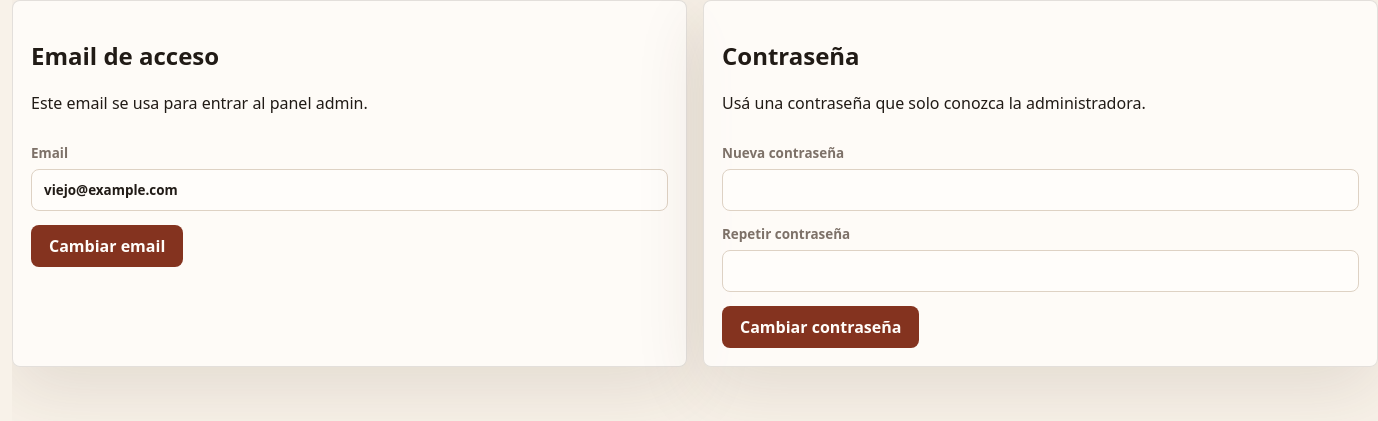
Test: AdminAccountForm › updates the admin email
Replace the text in the field labelled "Email" with "nuevo@example.com": coordinates (350, 190) [31,169,668,211]
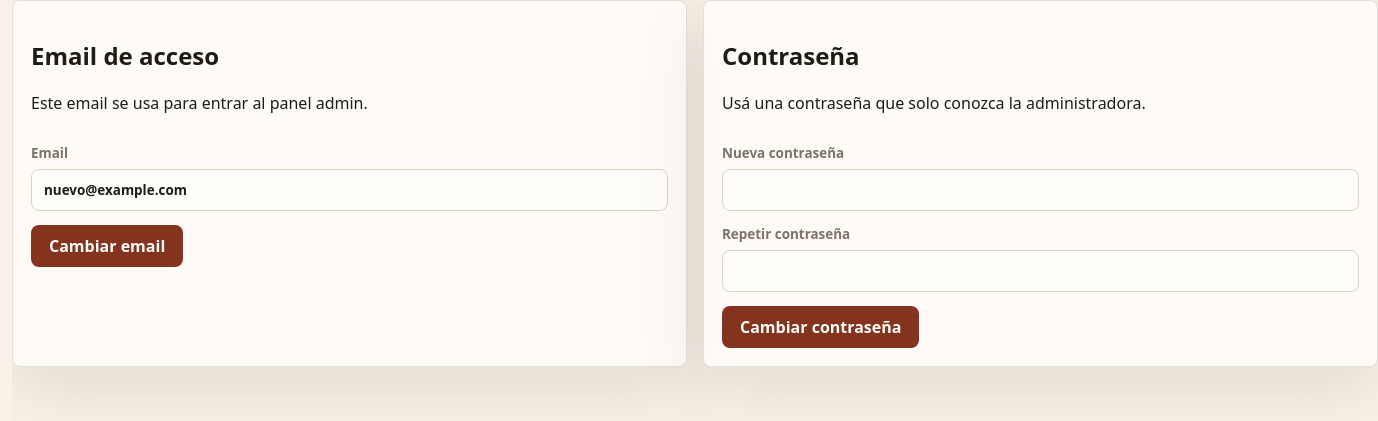
Click the button "Cambiar email": coordinates (107, 246) [31,225,183,267]
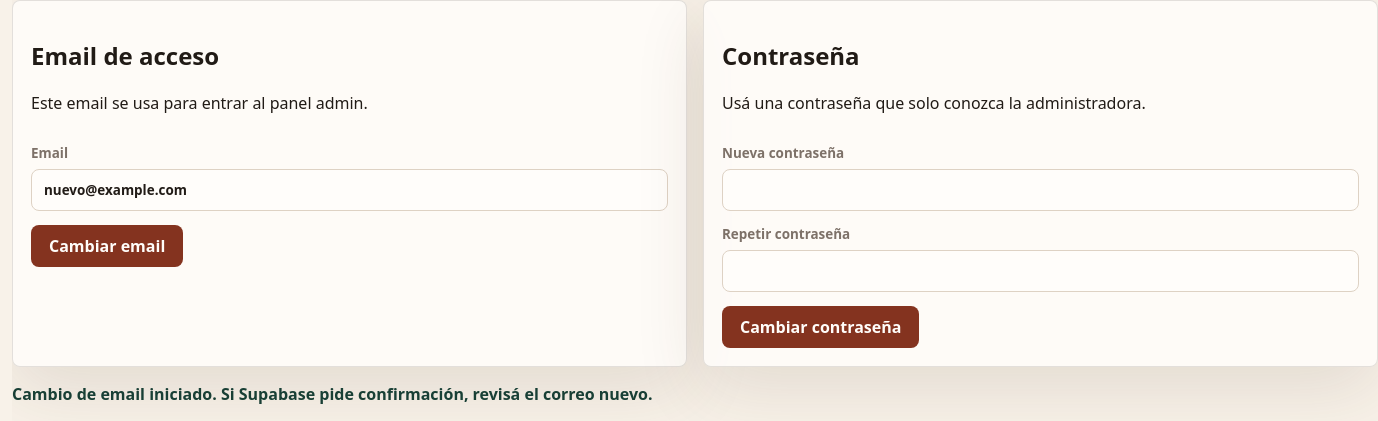
Expected: the text "Cambio de email iniciado" is shown, [12,383,652,405]
